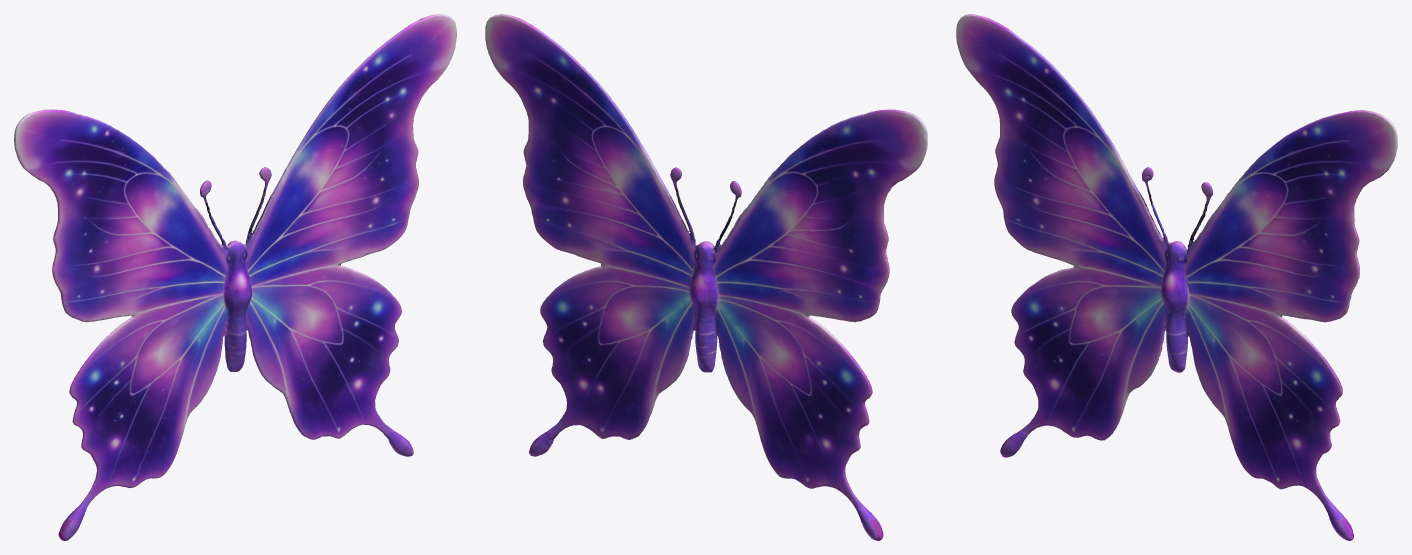
The model's file is nebula_butterfly.glb.
3 views of the same model, side by side, from view 1: azimuth 30°, elevation 25°; view 2: azimuth 150°, elevation 25°; view 3: azimuth 330°, elevation 25° (orthographic).
Bounding box in the file's own units: 2 × 1.88 × 0.1316.
Materials: 1 (1 with a texture image).
